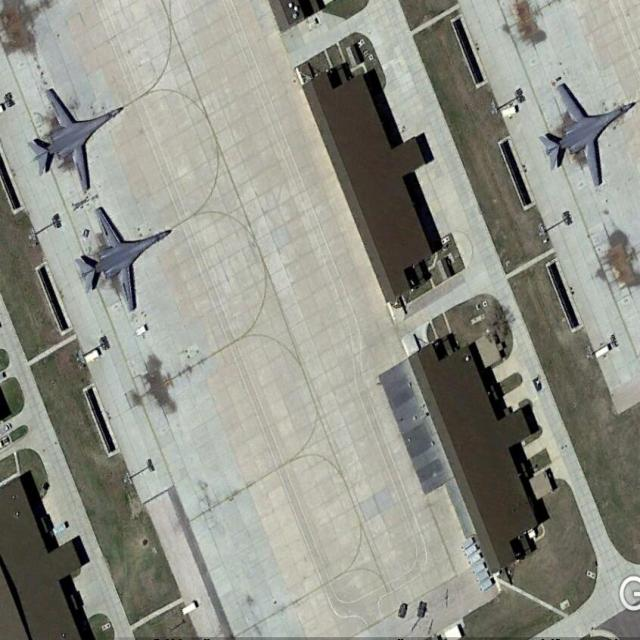fighter jet: (73, 195, 171, 308), (30, 74, 124, 180), (539, 77, 638, 177)
